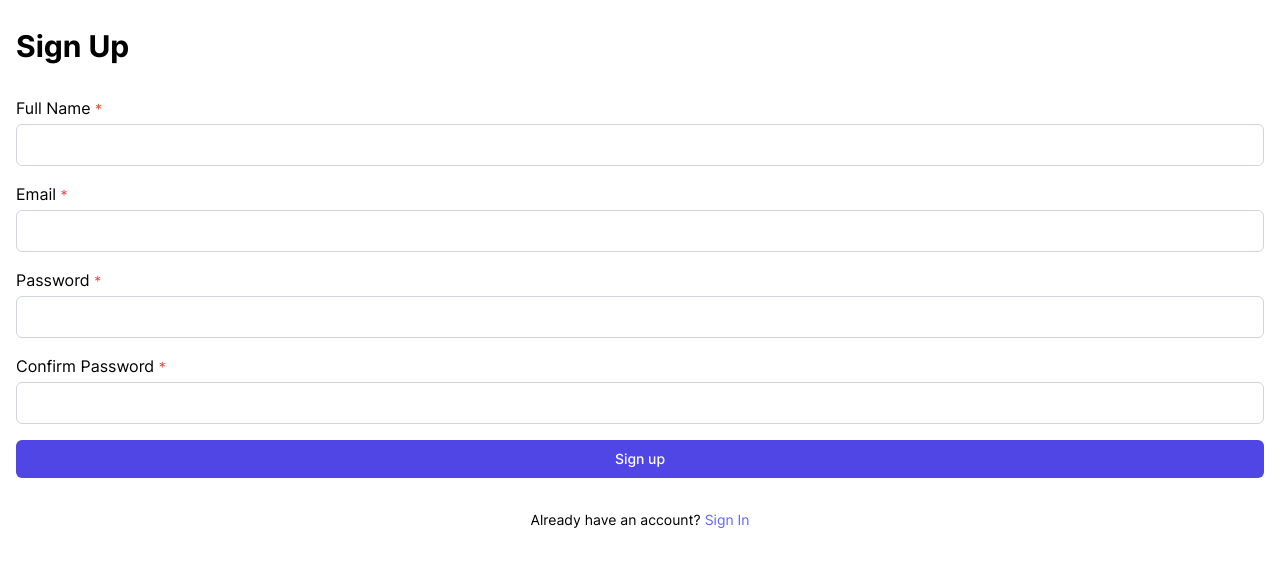
it: should render submit error
Step 1. Type "Some Name" into the field labelled "Full Name *" → [640, 145], box [16,124,1264,166]
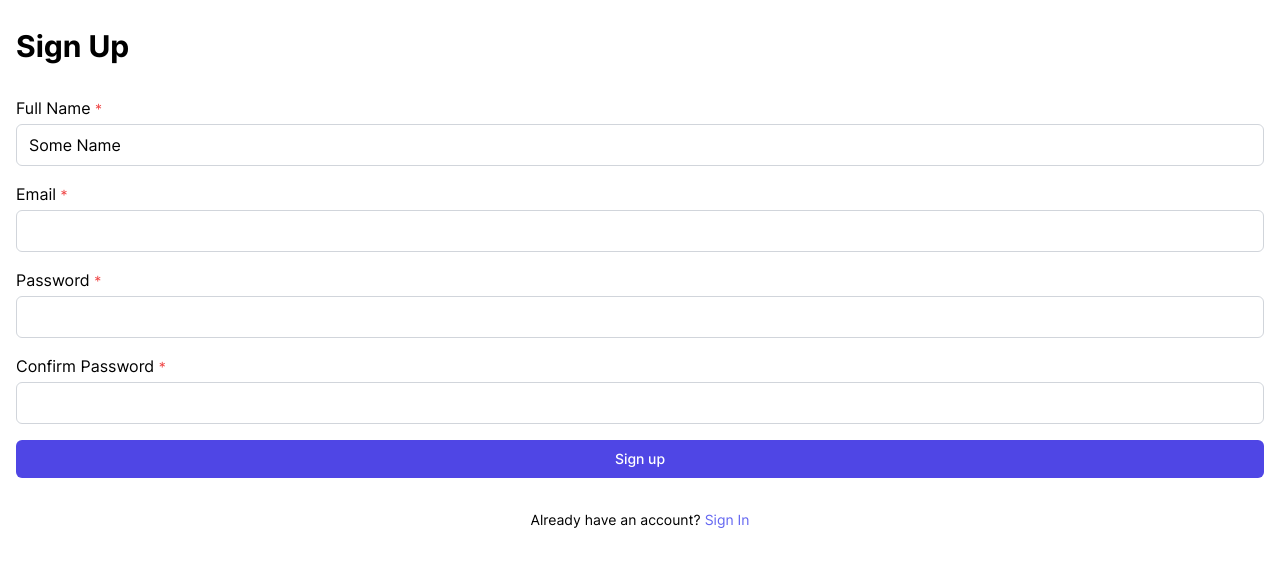
Step 2. Type "example@email.com" into the field labelled "Email *" → [640, 231], box [16,210,1264,252]
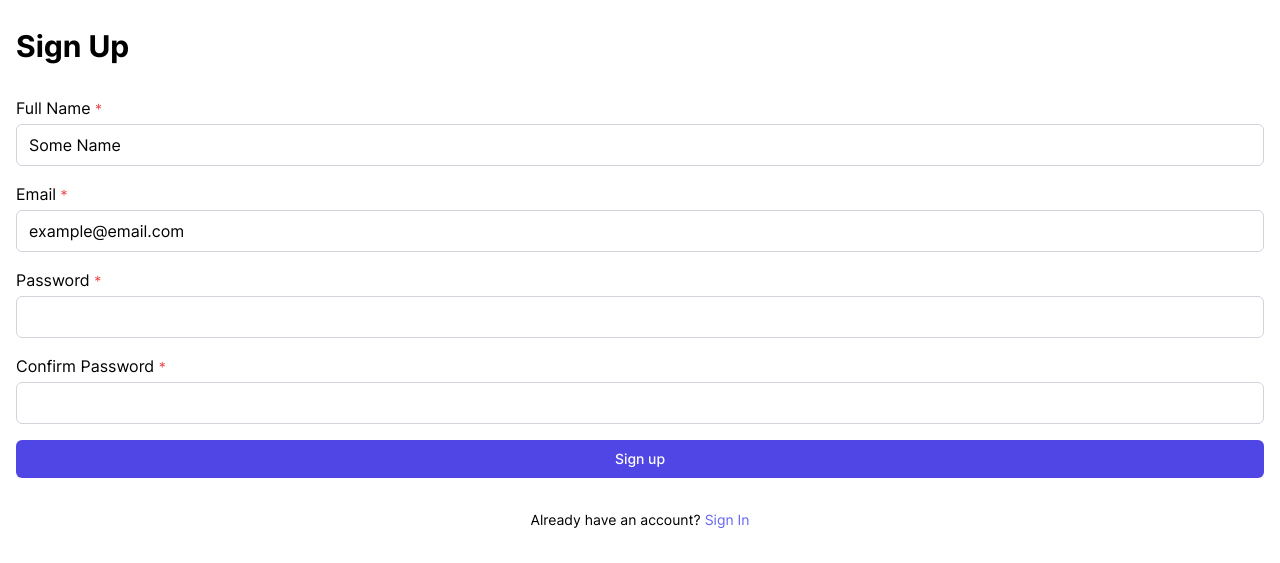
Step 3. Type "pass1W@a!uI" into the password field labelled "Password *" → [640, 317], box [16,296,1264,338]
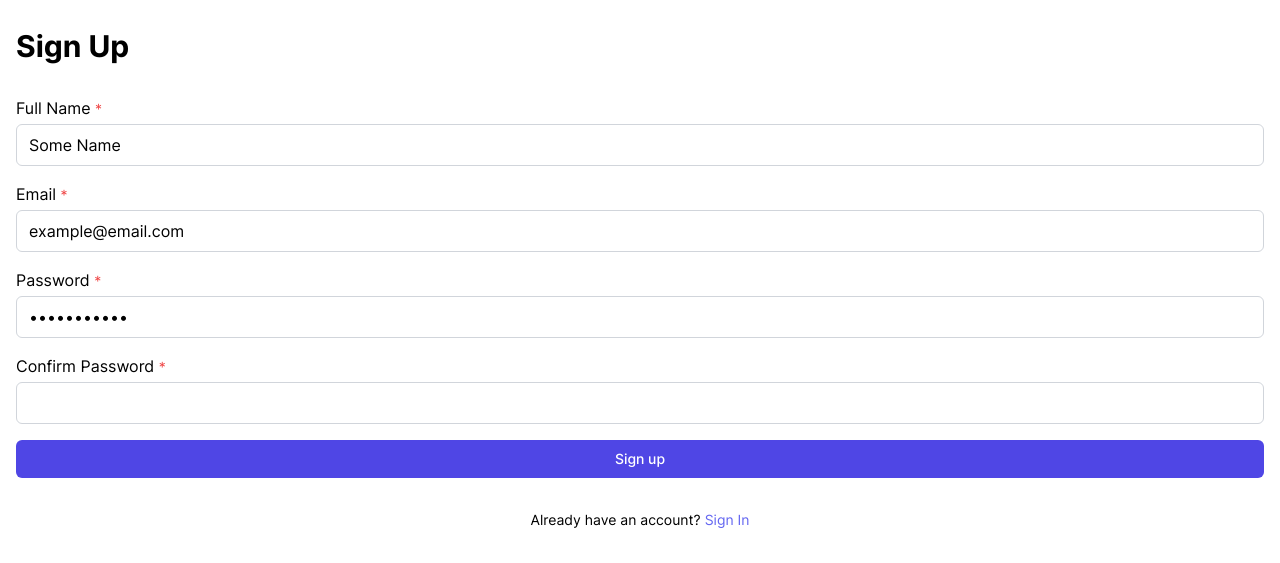
Step 4. Type "pass1W@a!uI" into the password field labelled "Confirm Password *" → [640, 403], box [16,382,1264,424]
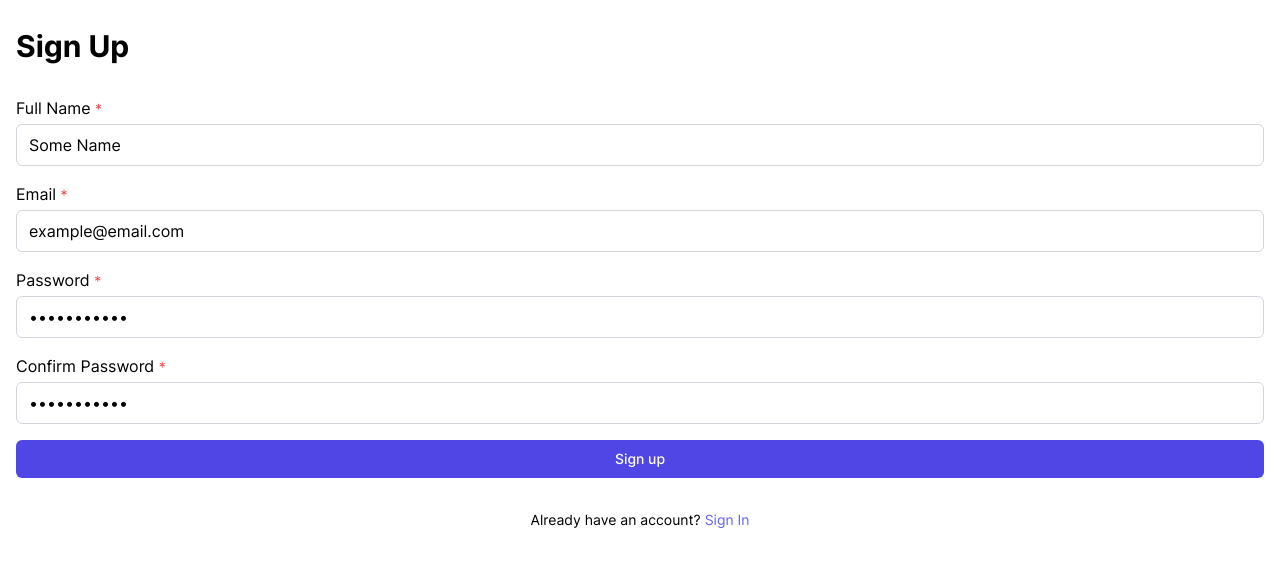
Step 5. Click the button "Sign up" → [640, 459], box [16,440,1264,478]
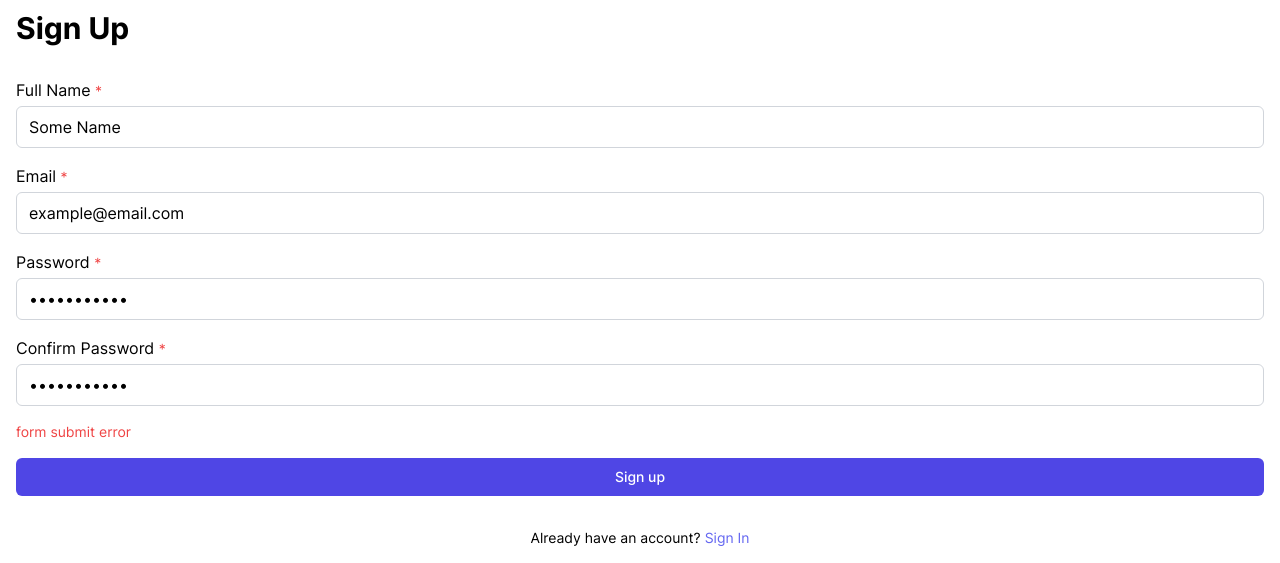
Result: the text "form submit error" is shown at [16,423,131,440]
